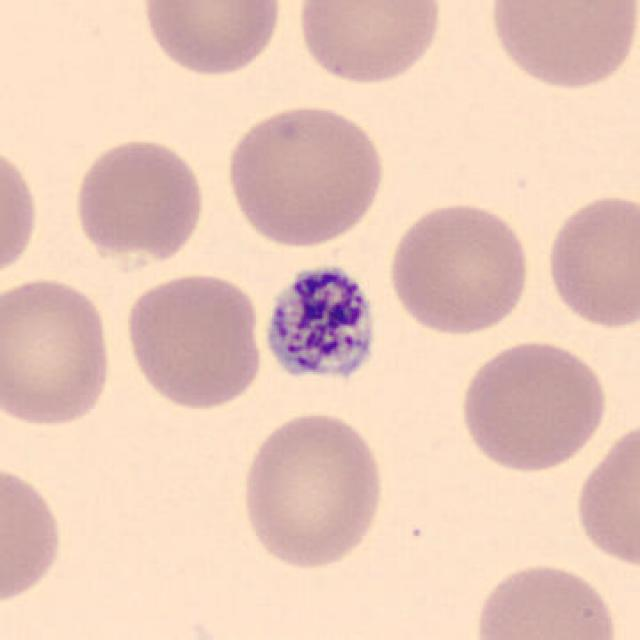Platelets: (258, 259, 382, 392)
RBC: (236, 407, 390, 573), (220, 100, 390, 250), (382, 195, 535, 338), (455, 335, 610, 476), (119, 268, 267, 413), (0, 273, 117, 431), (69, 133, 210, 264), (483, 0, 638, 93), (540, 189, 638, 333), (292, 0, 446, 88), (469, 557, 624, 640), (136, 0, 286, 79), (570, 416, 640, 573), (0, 458, 68, 610), (0, 138, 43, 288)
